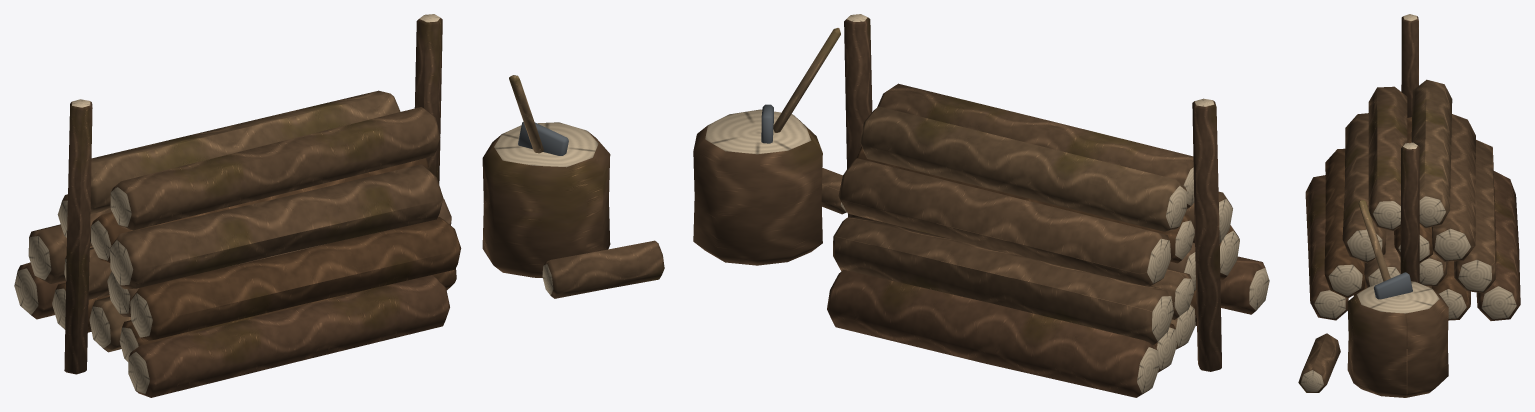
File: firewood-stack.glb
The picture shows the model from 3 angles, left to right: view 1: azimuth 30°, elevation 25°; view 2: azimuth 150°, elevation 25°; view 3: azimuth 270°, elevation 25°; orthographic projection. The views are drawn at different scales.
Parts seen in each view (by area): view 1: firewood-stack; view 2: firewood-stack; view 3: firewood-stack.
Boxes of the visible parts, left/top/right/bottom form: firewood-stack: left=14, top=14, right=664, bottom=397; firewood-stack: left=693, top=14, right=1269, bottom=397; firewood-stack: left=1298, top=14, right=1520, bottom=397.
Bounding box in the file's own units: 1.89 × 0.9015 × 0.9073.
Materials: 2 (1 with a texture image).
